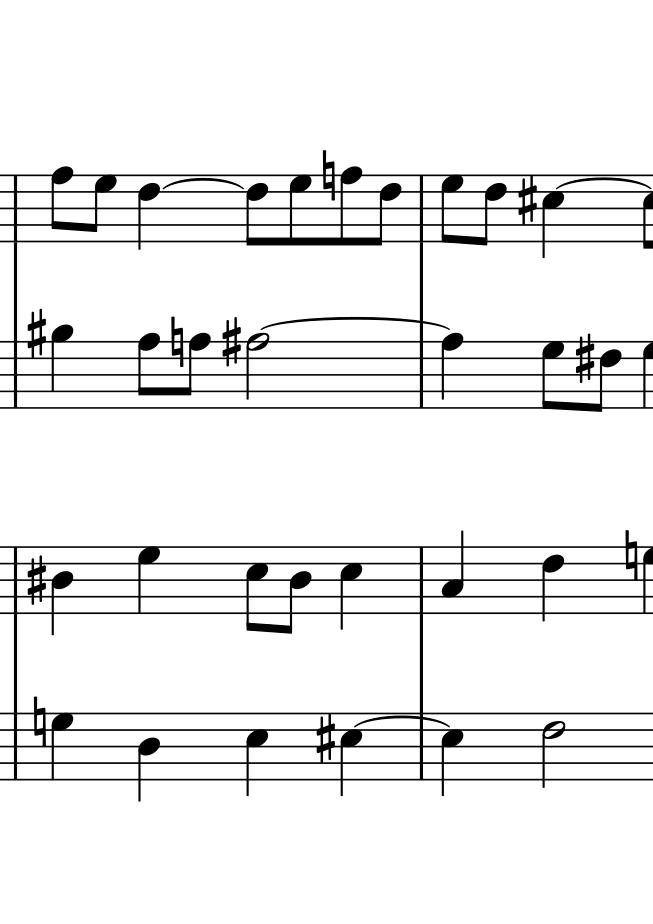2_6: (541, 712, 564, 789)
2_8: (245, 330, 268, 412)
4_3: (440, 532, 465, 614)
4_4: (50, 546, 75, 636), (136, 711, 161, 801)
4_5: (244, 713, 270, 797), (439, 712, 464, 799), (338, 547, 364, 630), (541, 172, 564, 261), (339, 712, 362, 800)
4_6: (136, 173, 160, 251), (541, 545, 565, 622)
4_7: (49, 713, 75, 781), (136, 546, 161, 615)
4_8: (440, 332, 464, 409)
4_9: (49, 322, 73, 410)
8_4: (282, 547, 312, 637)
8_5: (244, 545, 269, 633)
8_6: (591, 341, 623, 413), (477, 173, 508, 247), (374, 174, 403, 247), (245, 172, 269, 247)
8_7: (87, 174, 116, 242), (287, 173, 312, 247), (540, 338, 565, 411), (439, 174, 464, 245)
8_8: (180, 332, 210, 411), (338, 165, 363, 248), (50, 165, 74, 244), (136, 332, 160, 411)
Natural: (169, 316, 185, 370), (623, 530, 639, 584), (321, 149, 336, 204), (32, 699, 47, 750)
Sharp: (314, 712, 336, 765), (26, 554, 47, 608), (517, 174, 538, 227), (574, 333, 595, 384), (26, 308, 46, 360), (221, 316, 241, 368)
Single_barline: (414, 341, 432, 406), (413, 548, 430, 613), (7, 546, 23, 614), (413, 716, 430, 780), (414, 176, 430, 242), (8, 713, 23, 781), (8, 342, 23, 409), (8, 176, 22, 243)
Slur: (258, 316, 453, 331), (554, 176, 653, 190), (353, 715, 452, 728), (163, 178, 244, 190)
